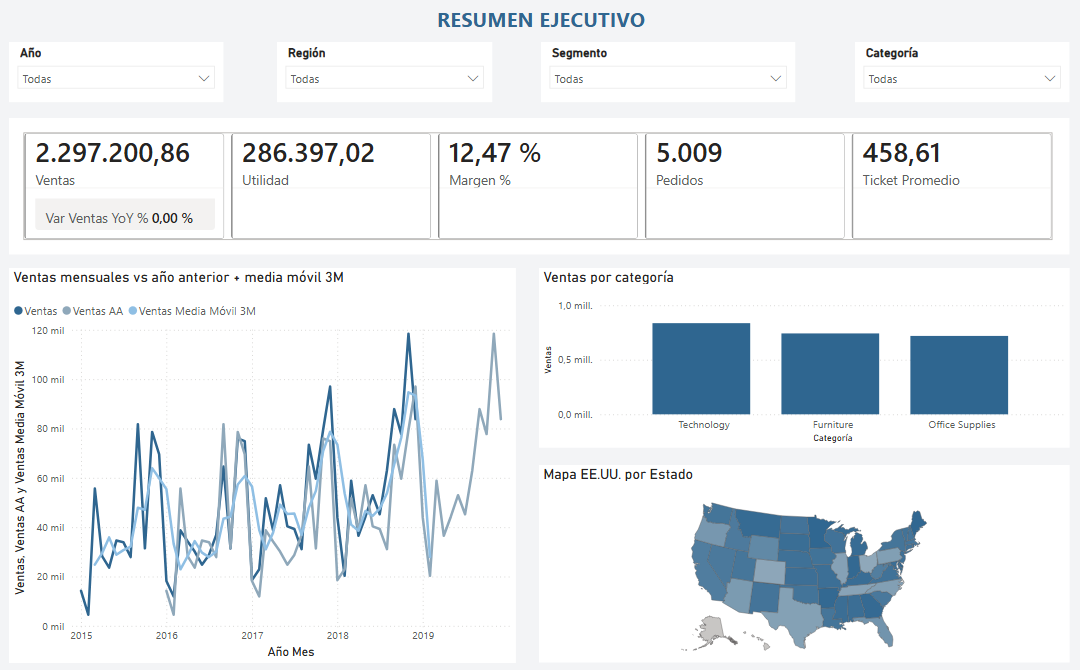

What the dashboard file says about the page in this screenshot:
{"tool":"powerbi","page":{"name":"Resumen Ejecutivo","canvas":[1280,800],"ordinal":0},"visuals":[{"type":"slicer","title":"Año","fields":{"Values":["dim_date.year"]},"box":[12.6,56.1,252.8,70.9],"z":0},{"type":"slicer","fields":{"Values":["dim_geography.region"]},"box":[329.4,56.1,253.9,70.9],"z":1},{"type":"slicer","fields":{"Values":["dim_product.category"]},"box":[1011.2,56.1,252.8,70.9],"z":2},{"type":"slicer","fields":{"Values":["dim_customer.segment"]},"box":[640.6,56.1,299.7,70.9],"z":3},{"type":"textbox","box":[456.4,8,368.3,48],"z":4},{"type":"cardVisual","fields":{"Data":["_Medidas.Ventas","_Medidas.Utilidad","_Medidas.Margen %","_Medidas.Pedidos","_Medidas.Ticket Promedio"]},"box":[12.6,146.4,1251.4,161.3],"z":5},{"type":"lineChart","title":"Ventas mensuales vs año anterior + media móvil 3M","fields":{"Category":["dim_date.year_month"],"Y":["_Medidas.Ventas","_Medidas.Ventas AA","_Medidas.Ventas Media Móvil 3M"]},"box":[12.6,323.7,598.2,465.6],"z":6},{"type":"columnChart","title":"Ventas por categoría","fields":{"Category":["dim_product.category"],"Y":["_Medidas.Ventas"]},"box":[638.3,323.7,625.7,211.6],"z":7},{"type":"shapeMap","title":"Mapa EE.UU. por Estado","fields":{"Category":["dim_geography.state"],"Value":["_Medidas.Margen %"]},"box":[638.3,555.9,625.7,233.4],"z":8}]}

Visuals, with their boxes in screenshot pixels (x1, y1, x2, y2), scaled from the page's 1280x800 canvas onto the 1080x670 screenshot:
"Año" slicer: 11:47:224:106
slicer - dim_geography.region: 278:47:492:106
slicer - dim_product.category: 853:47:1066:106
slicer - dim_customer.segment: 541:47:793:106
textbox: 385:7:696:47
cardVisual - _Medidas.Ventas x _Medidas.Utilidad: 11:123:1066:258
"Ventas mensuales vs año anterior + media móvil 3M" lineChart: 11:271:515:661
"Ventas por categoría" columnChart: 539:271:1066:448
"Mapa EE.UU. por Estado" shapeMap: 539:466:1066:661
